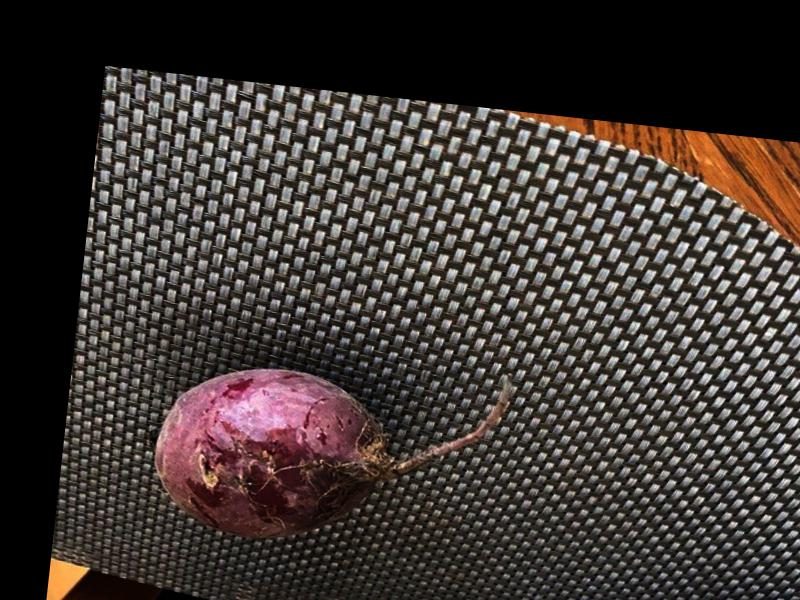Beet: (150, 337, 514, 565)
